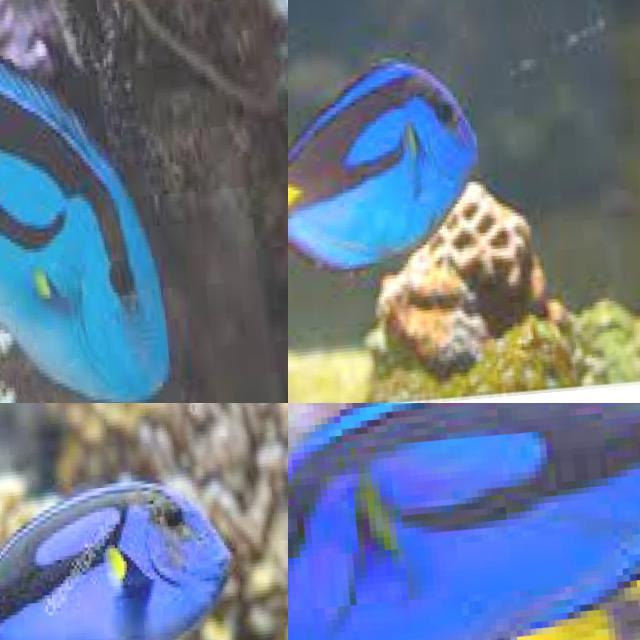BlueTang: (288, 403, 640, 640), (0, 70, 173, 403), (289, 53, 479, 262), (0, 481, 230, 640)
